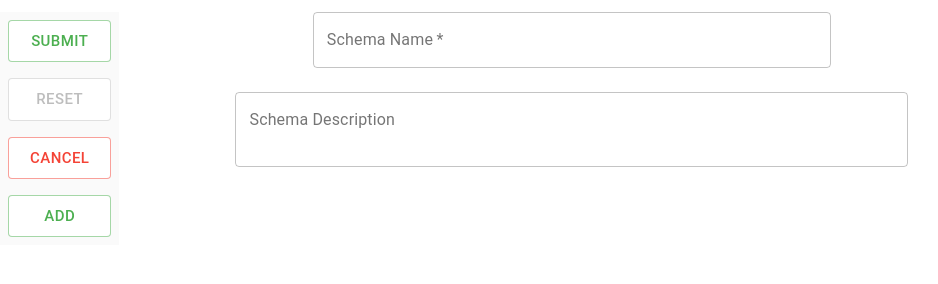
it: SchemasBoard without "activeSchemaId" › SchemasBoard is displayed back when Schema is added ("mode" = "ADD")
The width and height of the screenshot is (938, 284).
Type "Schema 3" into the field labelled "Schema Name" at (572, 40), box [313,12,831,68]
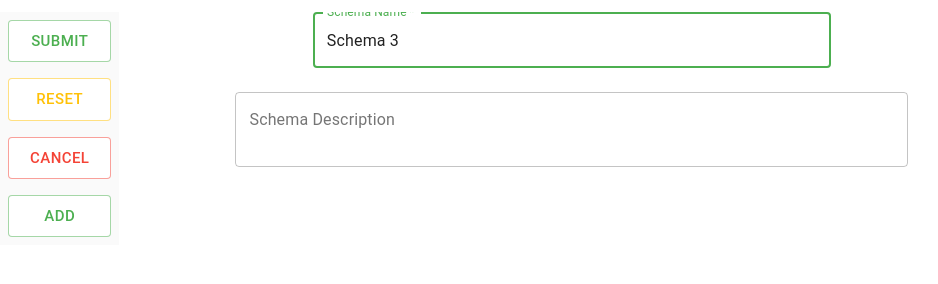
Click the button "Submit" at (60, 41), box [8,20,111,62]
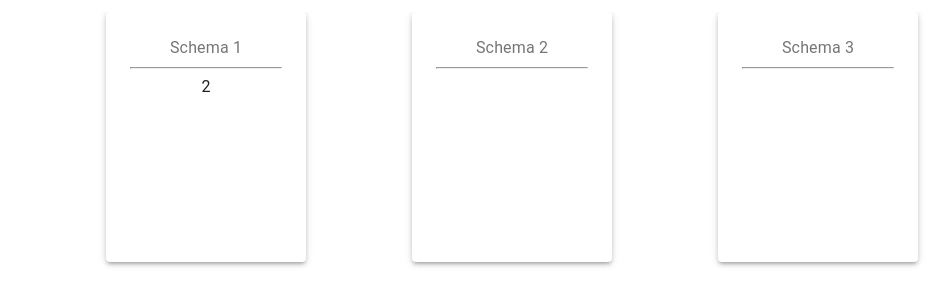
Result: the button "Schema 1 2" is shown at [106,12,306,262]
Result: the button "Schema 2" is shown at [412,12,612,262]
Result: the button "Schema 3" is shown at [718,12,918,262]
